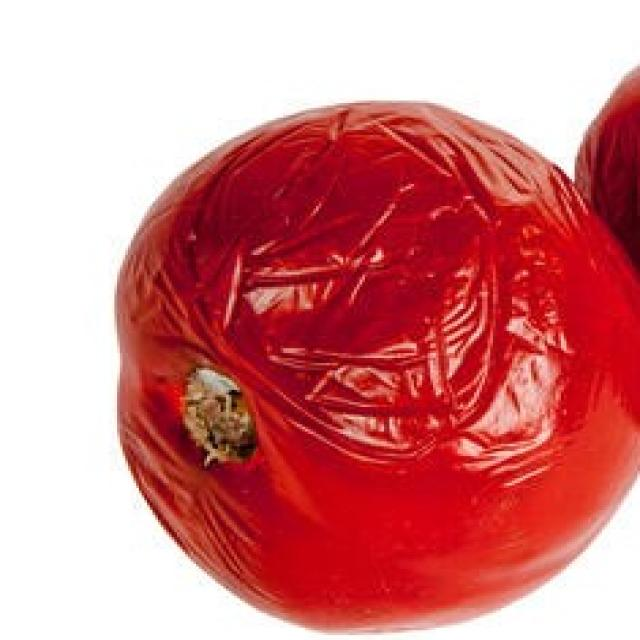overripe: (106, 96, 640, 635)
